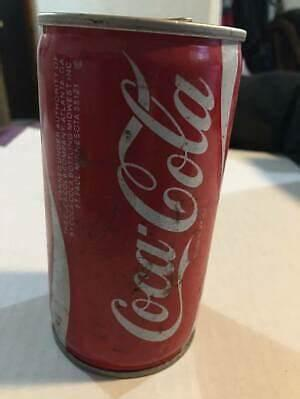metal: (38, 13, 247, 378)
